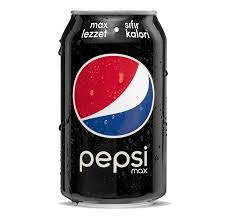pepsi: (59, 6, 167, 203)
